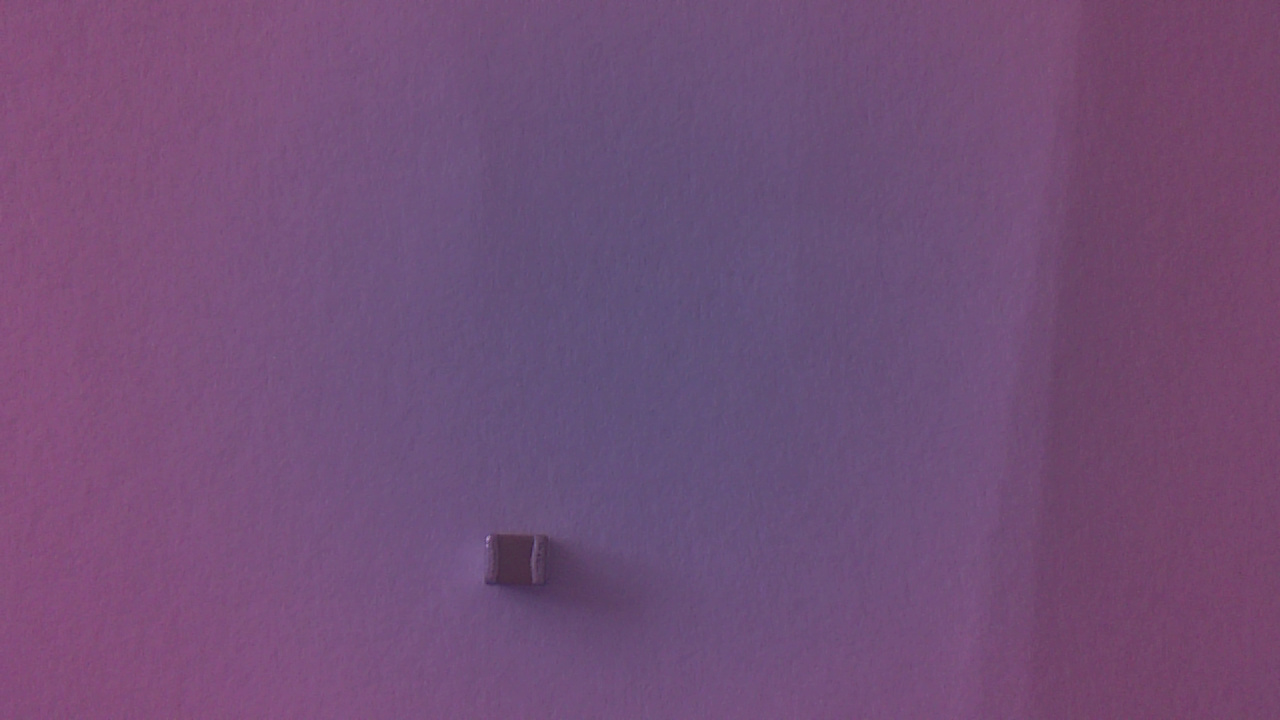Condensator: (483, 531, 561, 601)
